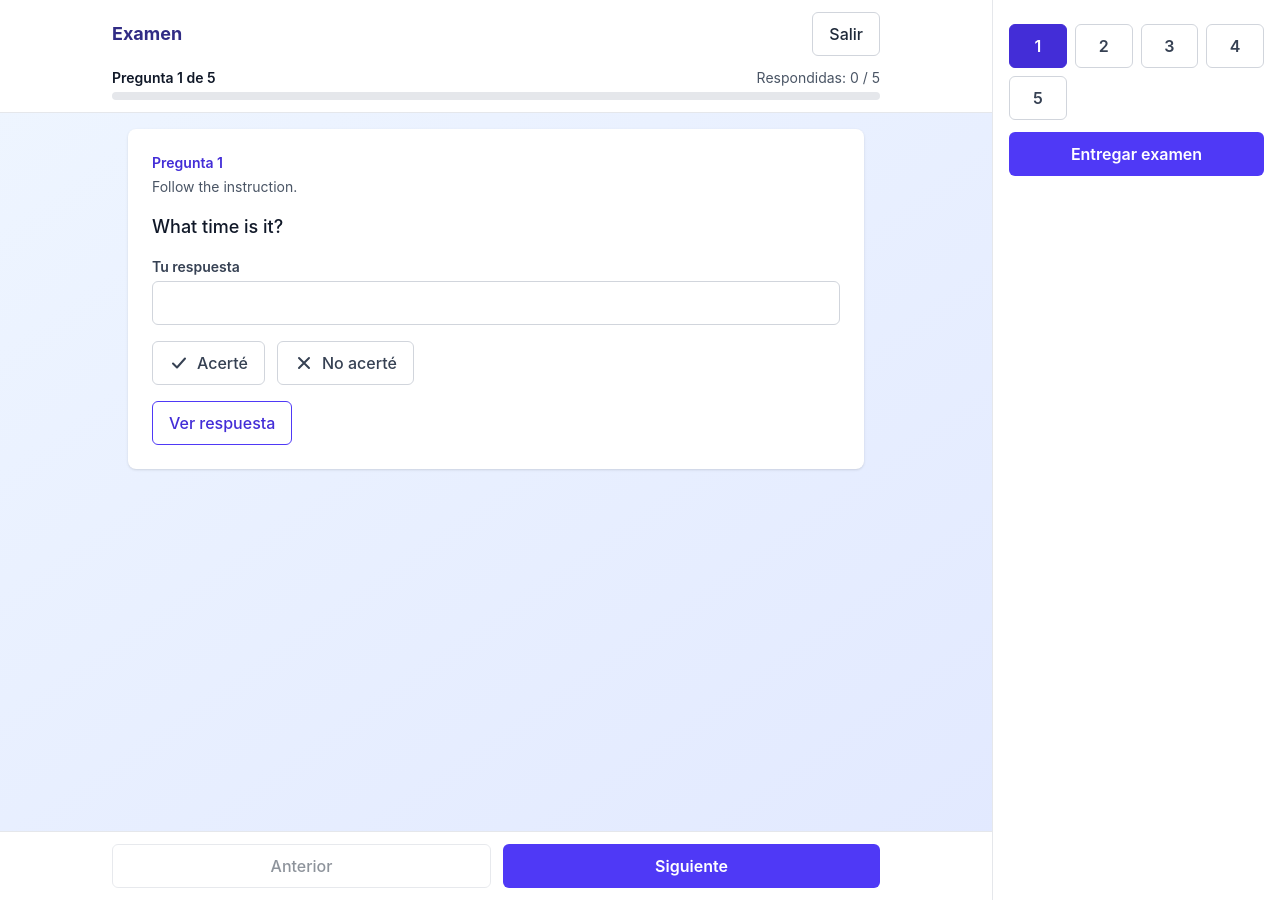
Test: ExamPage - answers persist › keeps text answers when moving away and back
In the field labelled "Tu respuesta": (496, 303) [152,281,840,325], type "hello"
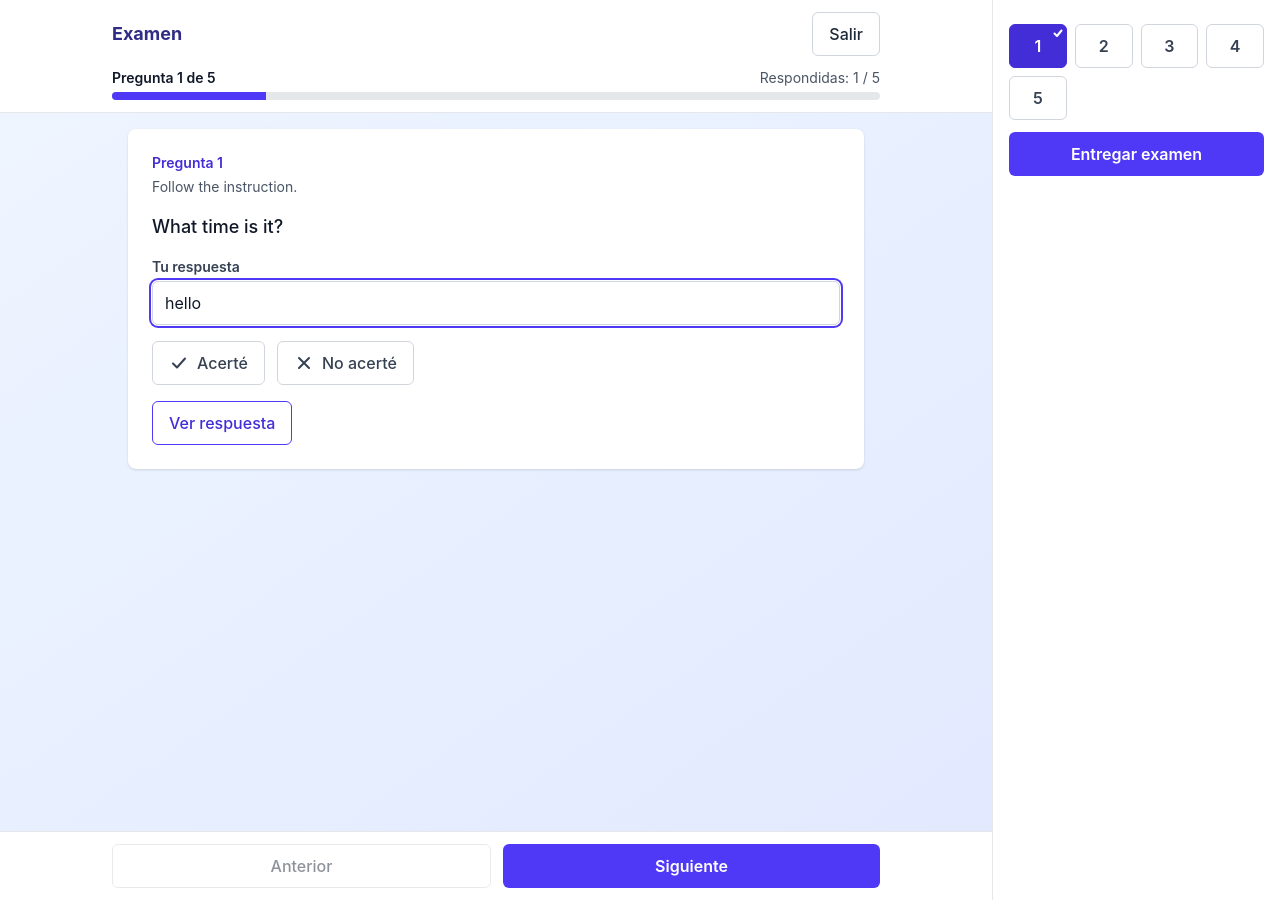
Click the button "3": (1169, 46) [1140,24,1198,68]
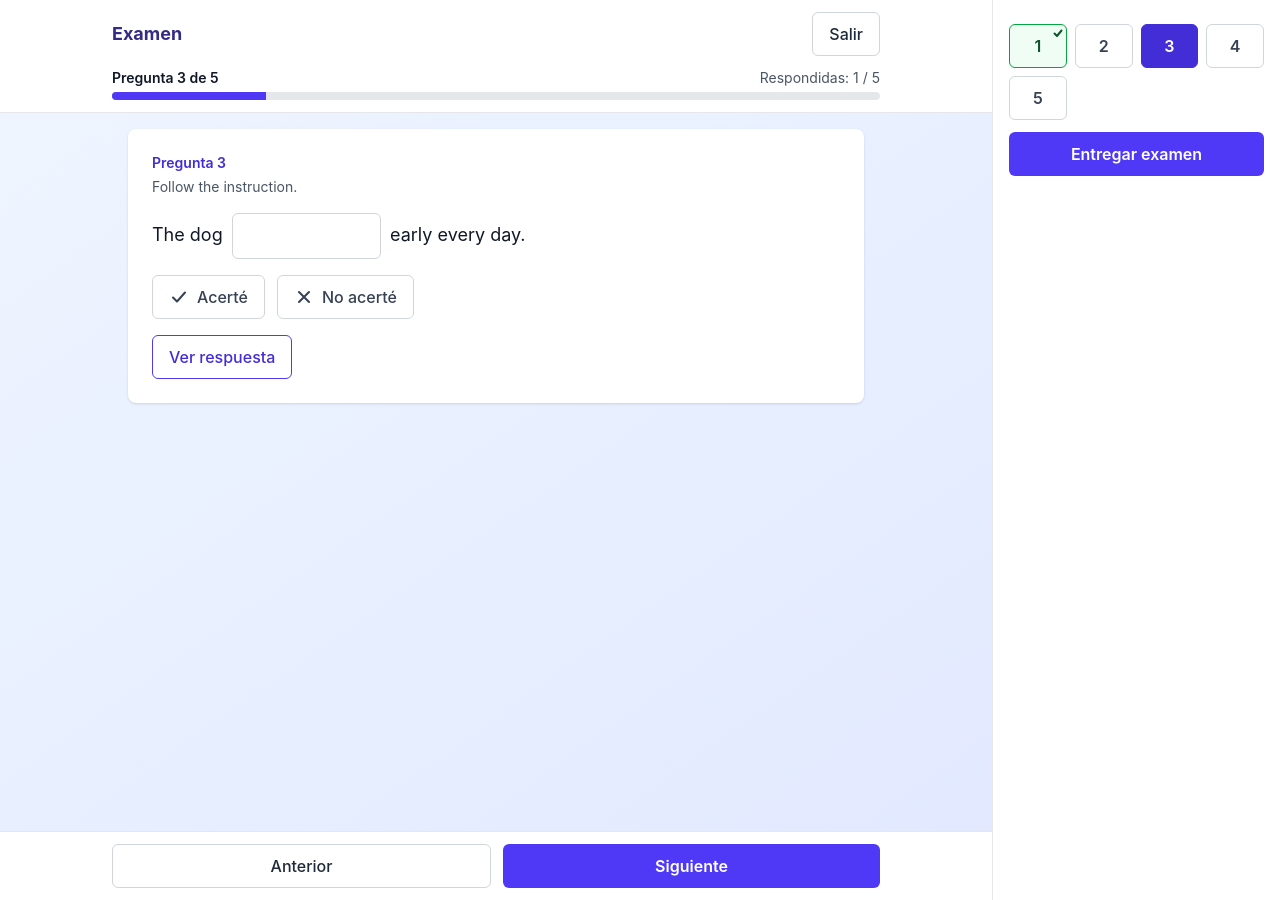
Click the button named "Pregunta 1,": (1038, 46) [1009,24,1067,68]
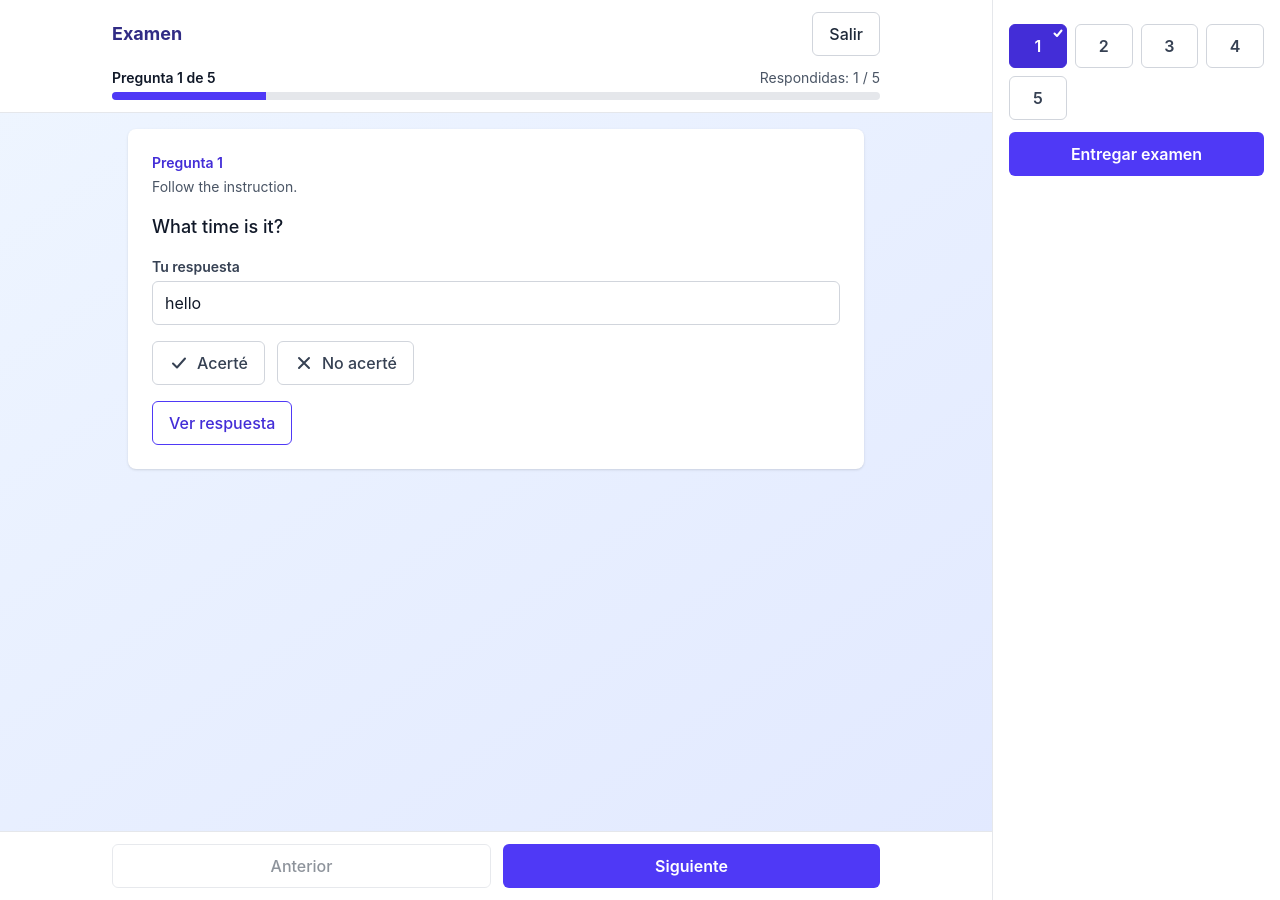
Check: the field labelled "Tu respuesta" holds "hello", box [152,281,840,325]
